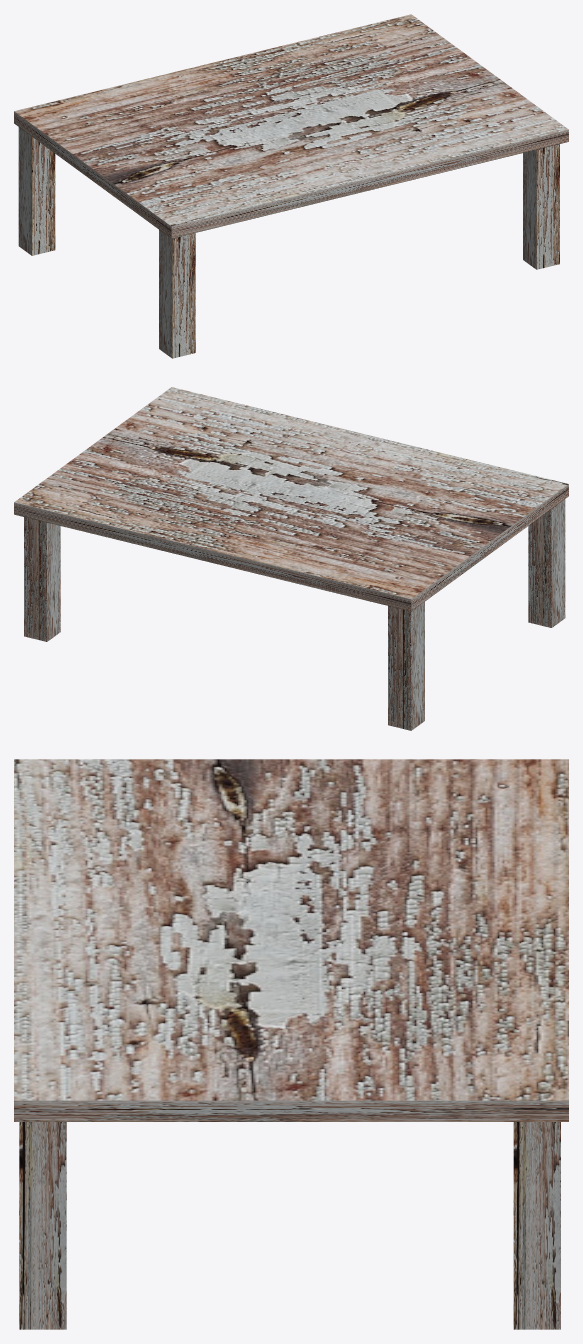
Rendered from familyTable.fbx.
The picture shows the model from 3 angles, top to bottom: view 1: azimuth 30°, elevation 25°; view 2: azimuth 150°, elevation 25°; view 3: azimuth 270°, elevation 25°; orthographic projection. The views are drawn at different scales.
Visible parts, largest first — view 1: Cube.004, Cube, Cube.002, Cube.001; view 2: Cube.004, Cube.001, Cube.003, Cube; view 3: Cube.004, Cube.002, Cube.003.
Part boxes in pixels (x1=…): Cube.004: x1=14, y1=14, x2=568, y2=238; Cube: x1=159, y1=230, x2=195, y2=358; Cube.002: x1=523, y1=144, x2=559, y2=269; Cube.001: x1=18, y1=127, x2=55, y2=255; Cube.004: x1=14, y1=387, x2=568, y2=611; Cube.001: x1=388, y1=602, x2=424, y2=730; Cube.003: x1=24, y1=517, x2=60, y2=641; Cube: x1=528, y1=499, x2=565, y2=627; Cube.004: x1=14, y1=759, x2=568, y2=1121; Cube.002: x1=19, y1=1122, x2=66, y2=1329; Cube.003: x1=513, y1=1122, x2=560, y2=1329.
Bounding box in the file's own units: 6822 × 2195 × 4686.
Materials: 2 (2 with a texture image).
